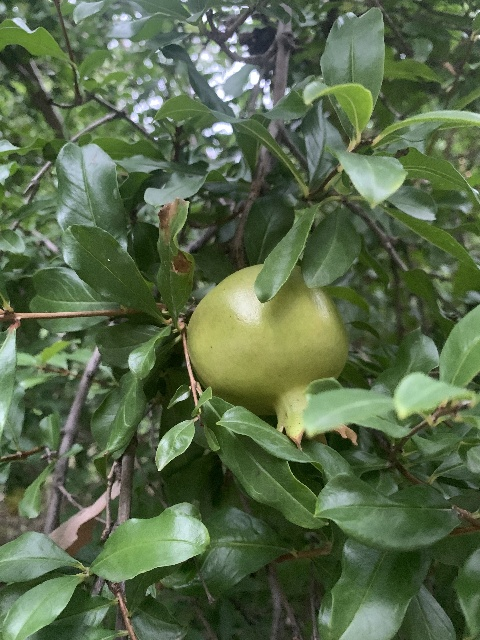mid-growth: (186, 263, 358, 452)
